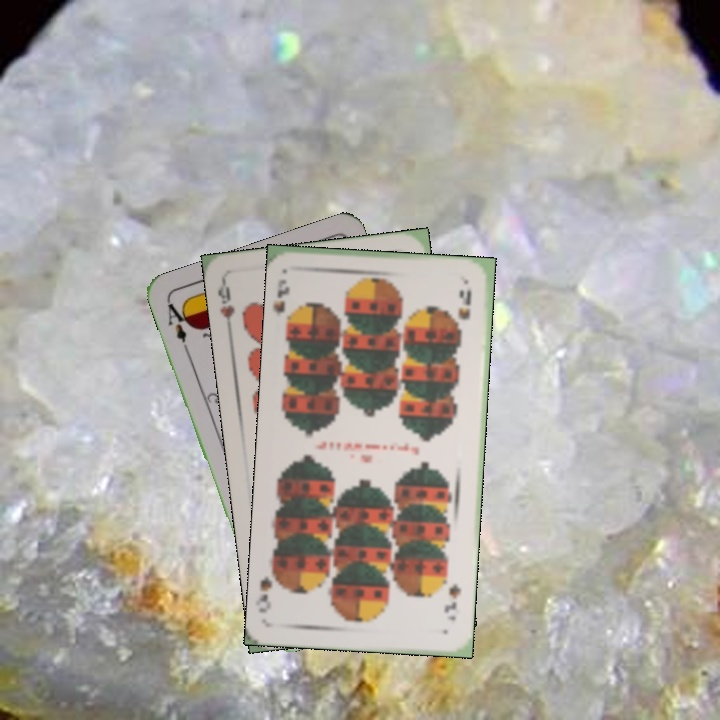EA: (163, 298, 193, 355)
H9: (213, 278, 237, 337)
S9: (271, 275, 298, 324), (440, 580, 464, 623)
